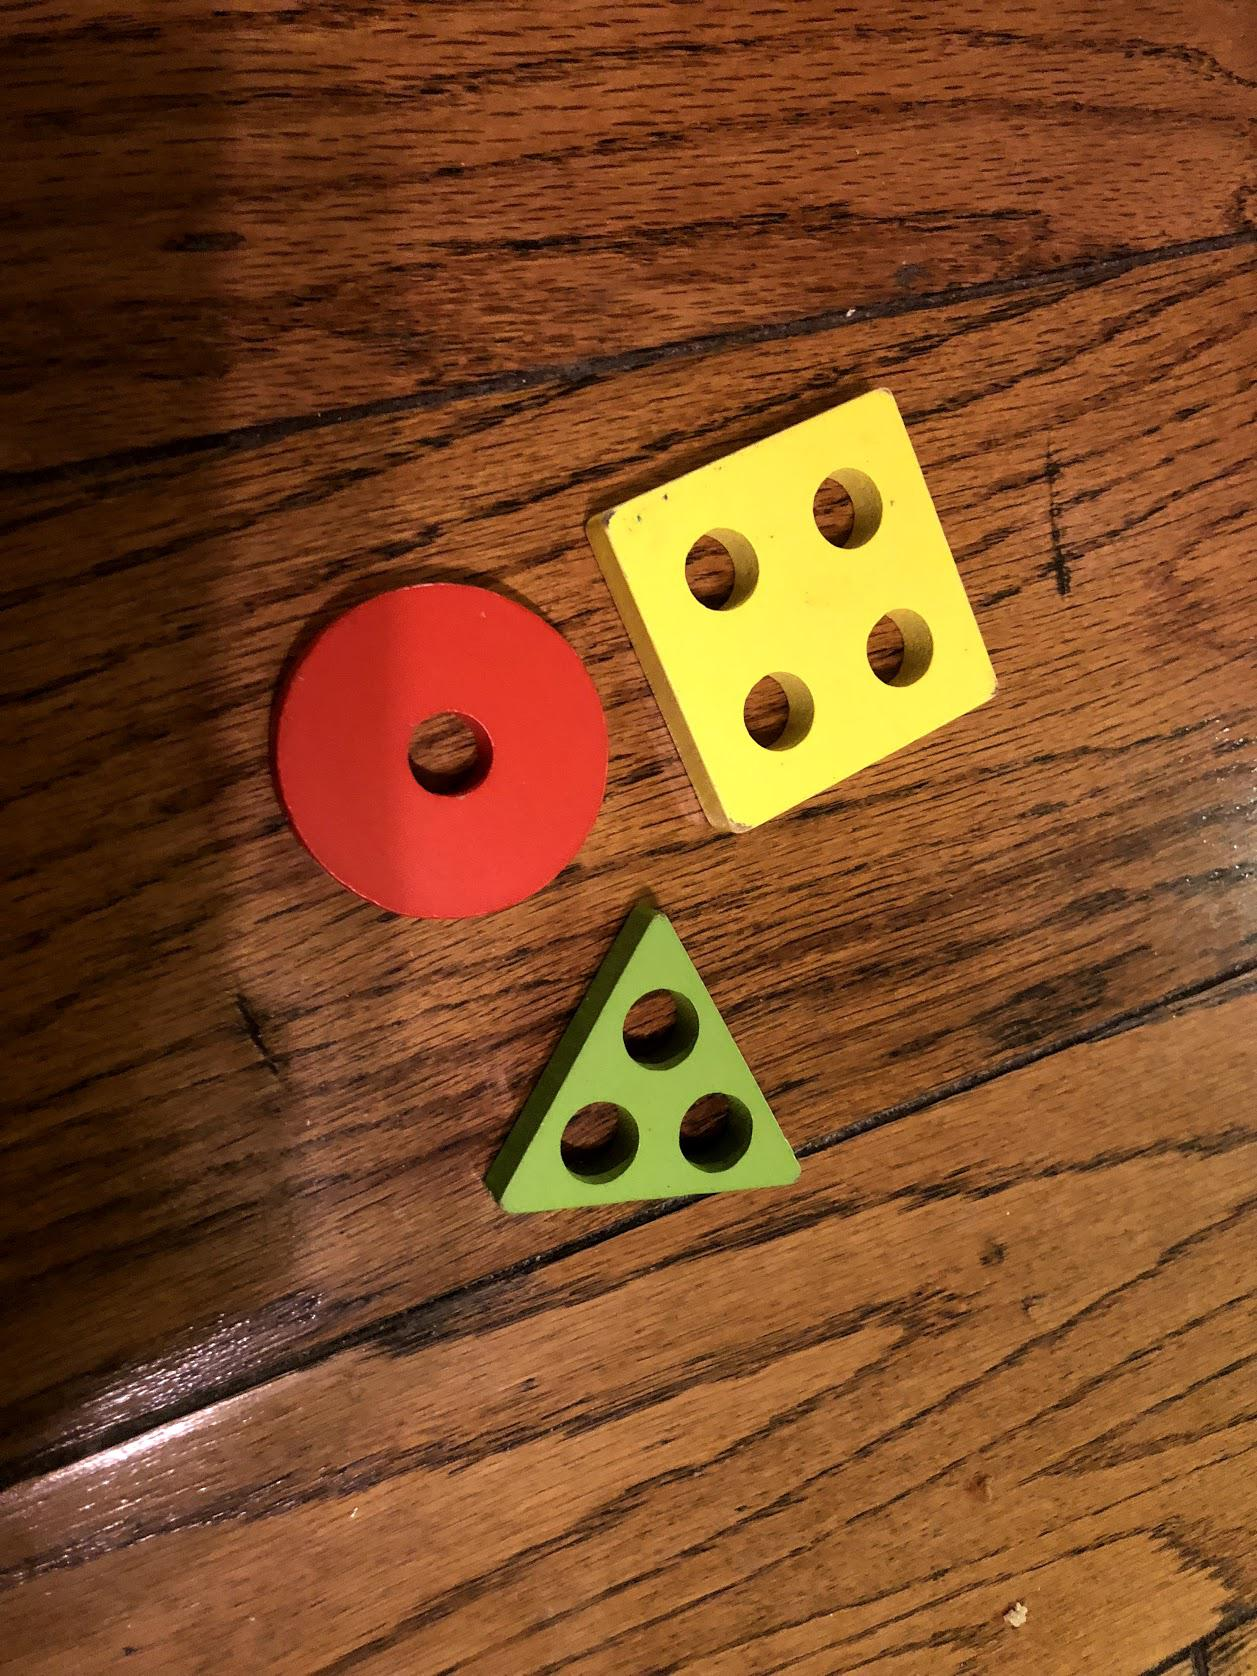Circle: (275, 581, 607, 915)
Square: (603, 383, 1001, 834)
Triangle: (490, 911, 801, 1211)
